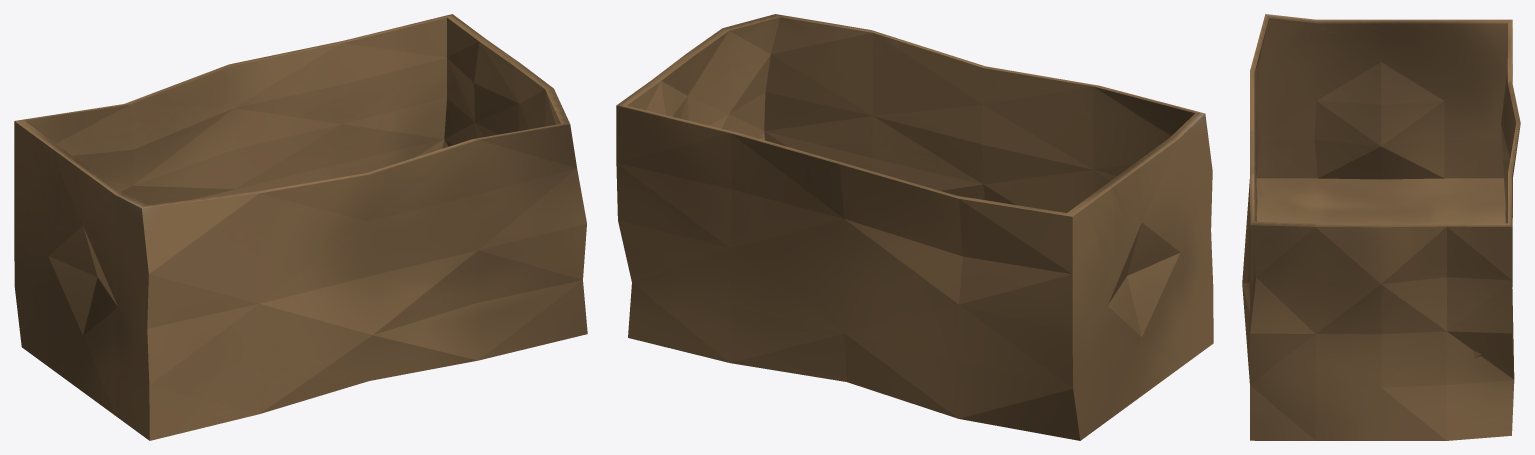
Rendered from box_bottom.fbx.
The picture shows the model from 3 angles, left to right: view 1: azimuth 30°, elevation 25°; view 2: azimuth 150°, elevation 25°; view 3: azimuth 270°, elevation 25°; orthographic projection. The views are drawn at different scales.
Parts seen in each view (by area): view 1: box_base; view 2: box_base; view 3: box_base.
Part boxes in pixels (x1,y1,x2,y2): box_base: [14, 14, 587, 440]; box_base: [616, 14, 1213, 440]; box_base: [1242, 14, 1520, 440].
Bounding box in the file's own units: 10.72 × 5.2 × 5.98.
1 material, 1 textured.
